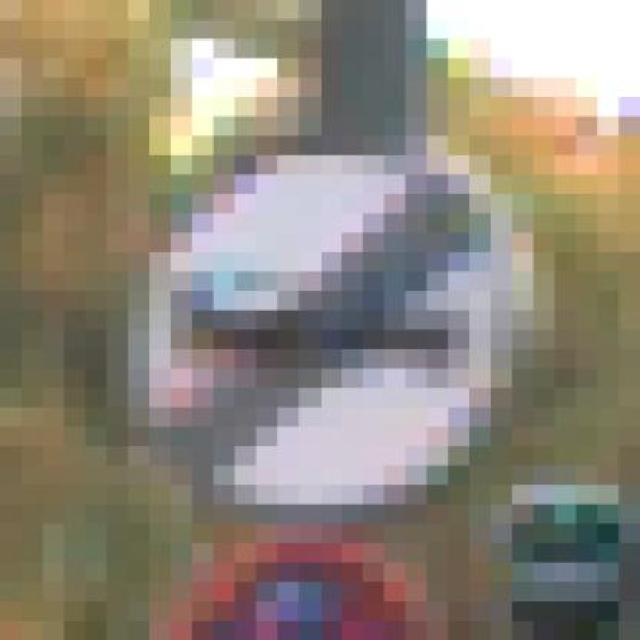No_Over_Taking: (63, 77, 554, 543)
